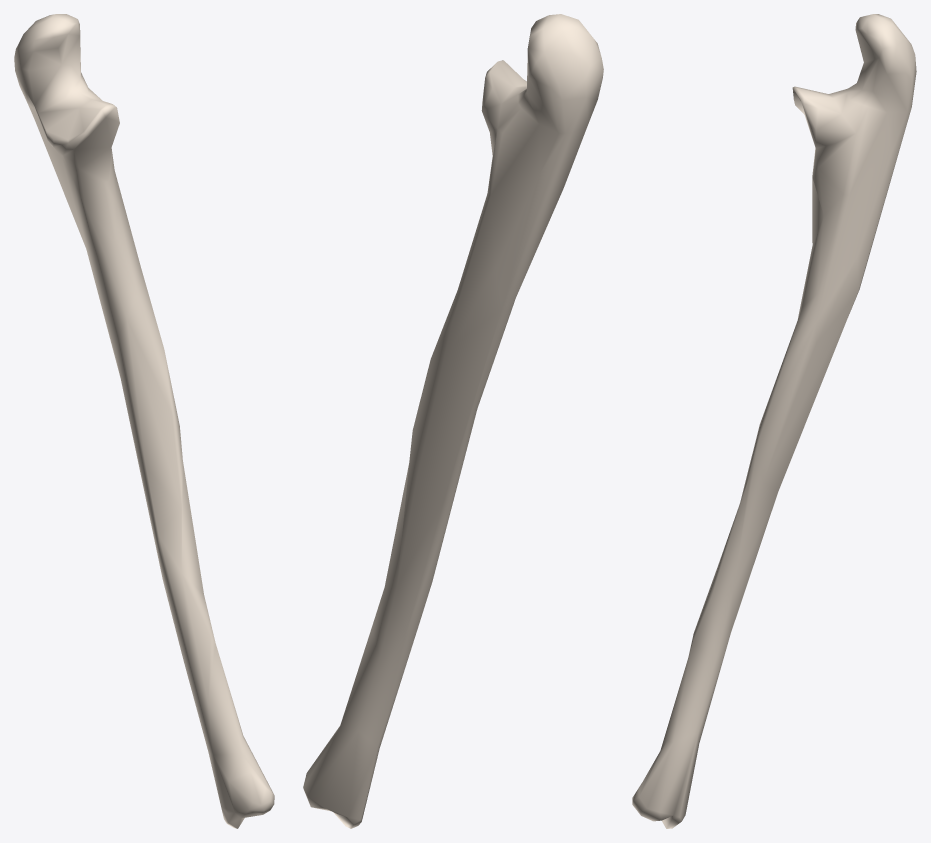
The model's file is left_ulna.glb.
3 renders of one model, left to right at view 1: azimuth 30°, elevation 25°; view 2: azimuth 210°, elevation 25°; view 3: azimuth 270°, elevation 25°, orthographic. The views are drawn at different scales.
Visible parts, largest first — view 1: Ulna.r; view 2: Ulna.r; view 3: Ulna.r.
Boxes of the visible parts, x1,y1,x2,y2 form: Ulna.r: (14, 14, 274, 828); Ulna.r: (303, 14, 603, 828); Ulna.r: (632, 14, 916, 828).
Bounding box in the file's own units: 0.0486 × 0.2485 × 0.0828.
